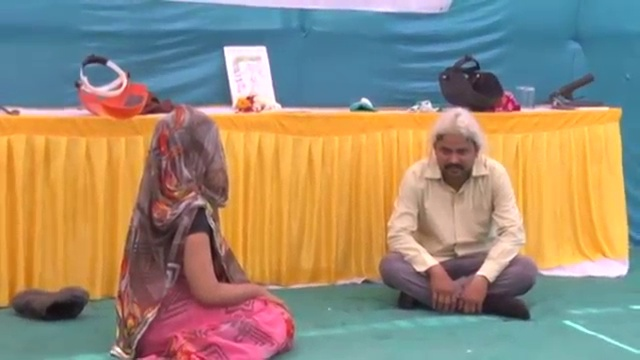helmet_off: (145, 106, 229, 209), (432, 108, 481, 181)
person: (110, 104, 298, 360), (378, 106, 543, 321)
